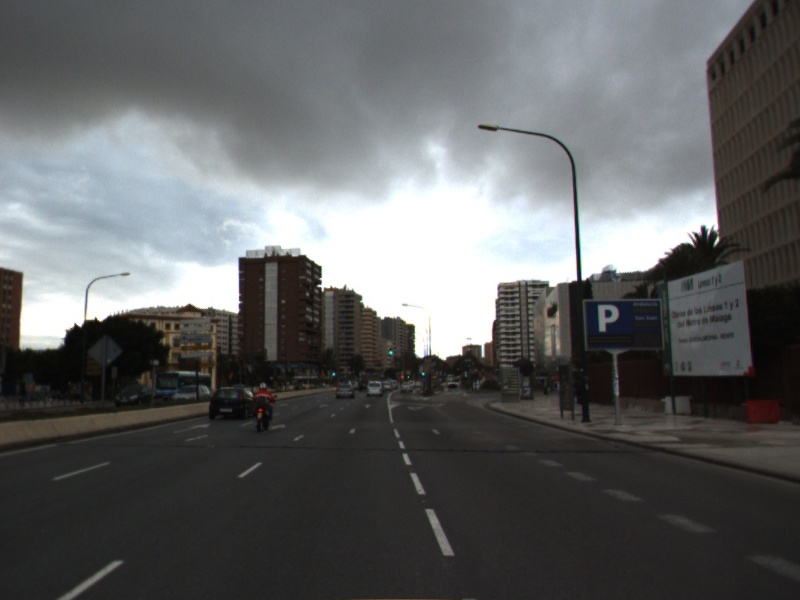STRAIGHT: (169, 421, 213, 435)
